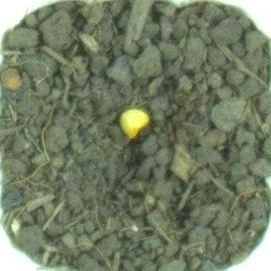pepper seed: (43, 39, 194, 178)
